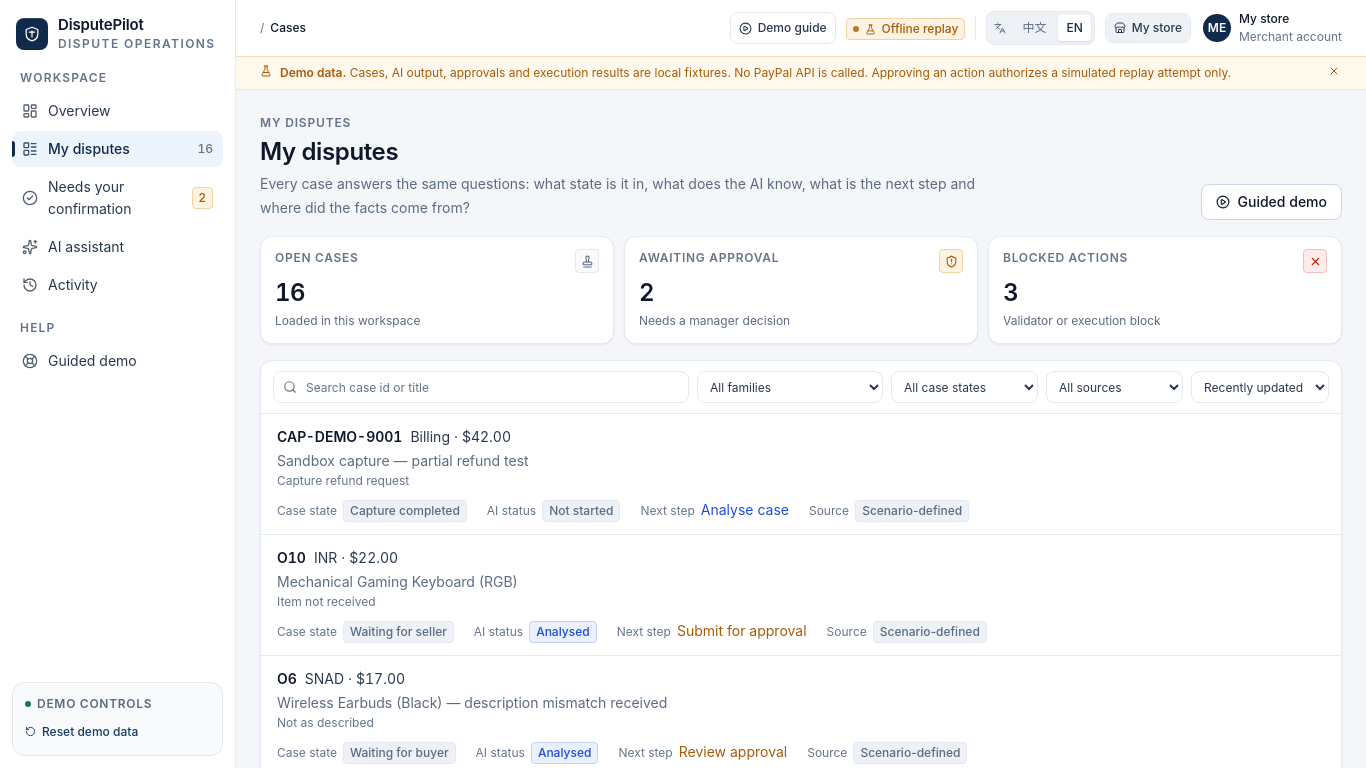
Scenario: cases — task list › filters by case state
Expected: the heading "My disputes" is shown, [260,137,398,166]
Step 1. Select "Under review" in the dropdown named "Filter by case state" → (964, 387), box [891,371,1038,403]
(page scrolled)
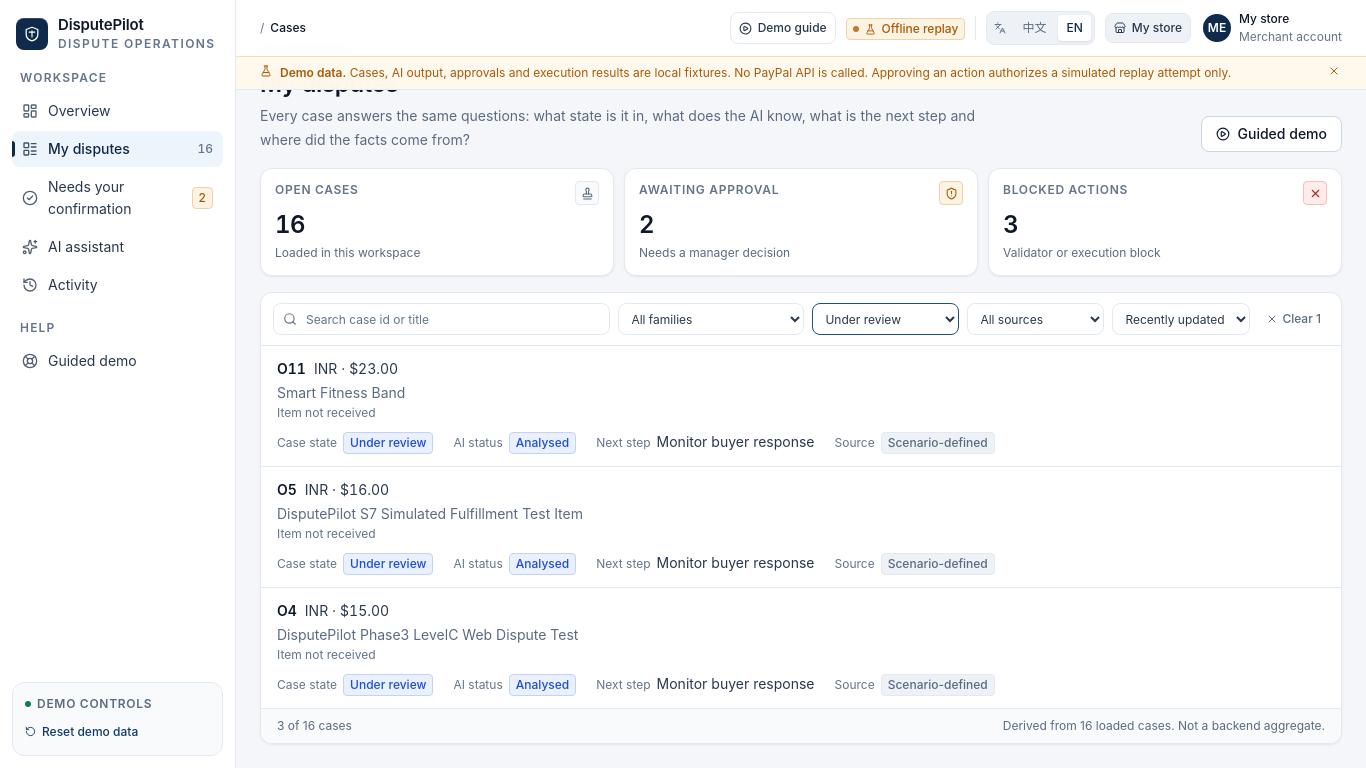
Expected: the text "DisputePilot Phase3 LevelC Web Dispute Test" is shown, [277,626,578,643]
Expected: the link "Mechanical Gaming Keyboard (RGB)" is gone
Expected: the text "3 of 16 cases" is shown, [277,717,352,735]
